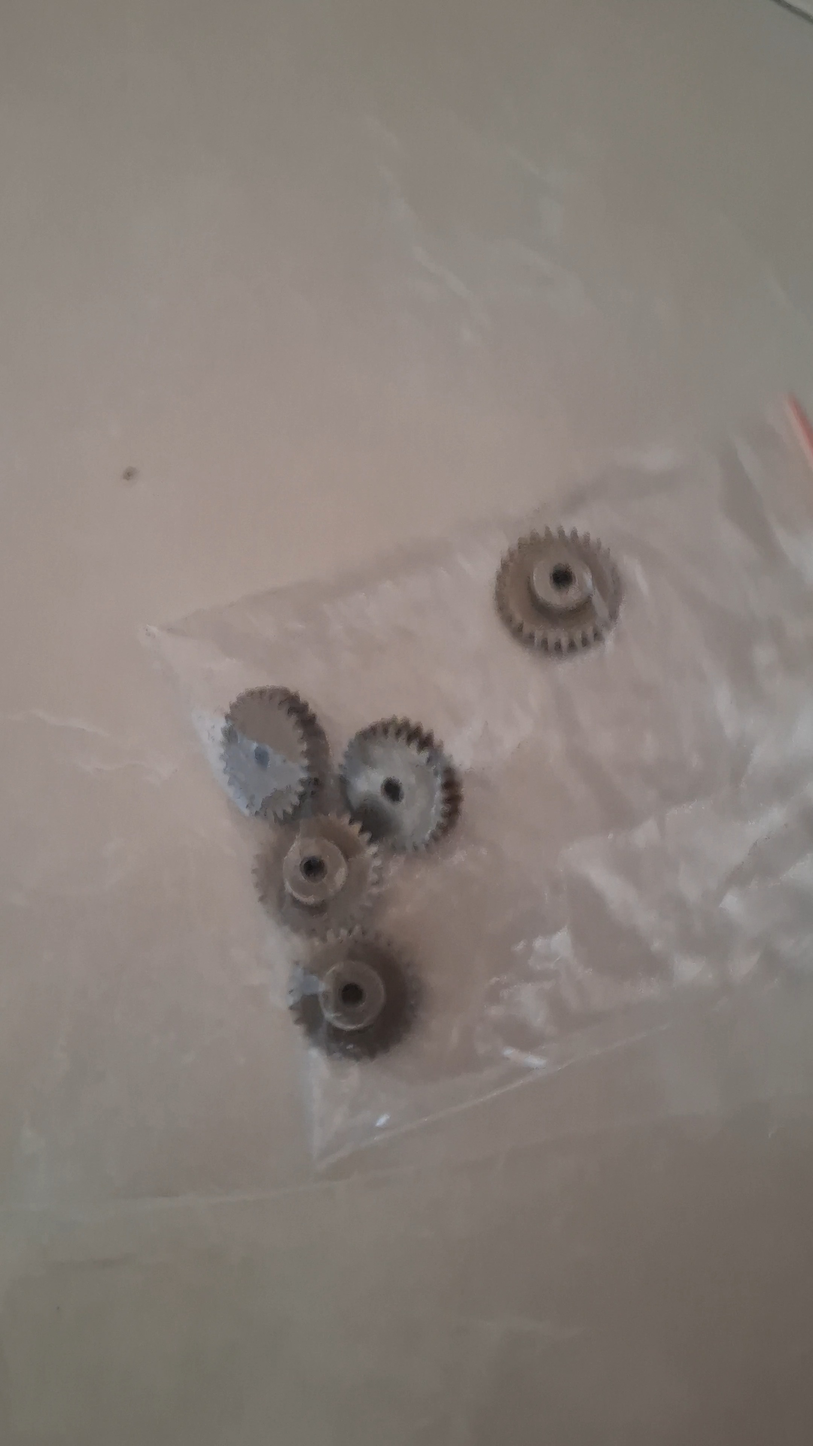spur gear: (289, 932, 419, 1060), (340, 718, 461, 851), (495, 528, 621, 653), (254, 815, 382, 937), (222, 686, 323, 821)
